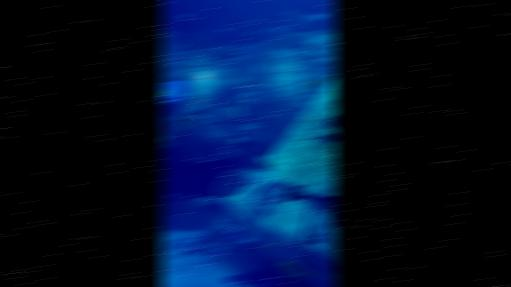Fish: (286, 9, 331, 31), (278, 260, 311, 279), (173, 113, 208, 127), (285, 183, 309, 202), (160, 86, 187, 102), (303, 78, 328, 88), (195, 195, 216, 205), (265, 25, 288, 33), (259, 154, 272, 166), (312, 232, 323, 243), (267, 238, 280, 247), (159, 135, 168, 144), (178, 125, 191, 130), (233, 95, 240, 104), (230, 139, 245, 143), (179, 13, 191, 18), (234, 108, 241, 116), (219, 27, 230, 32), (166, 193, 175, 198), (246, 31, 257, 35), (253, 85, 264, 89), (252, 19, 261, 23), (165, 116, 172, 120)
